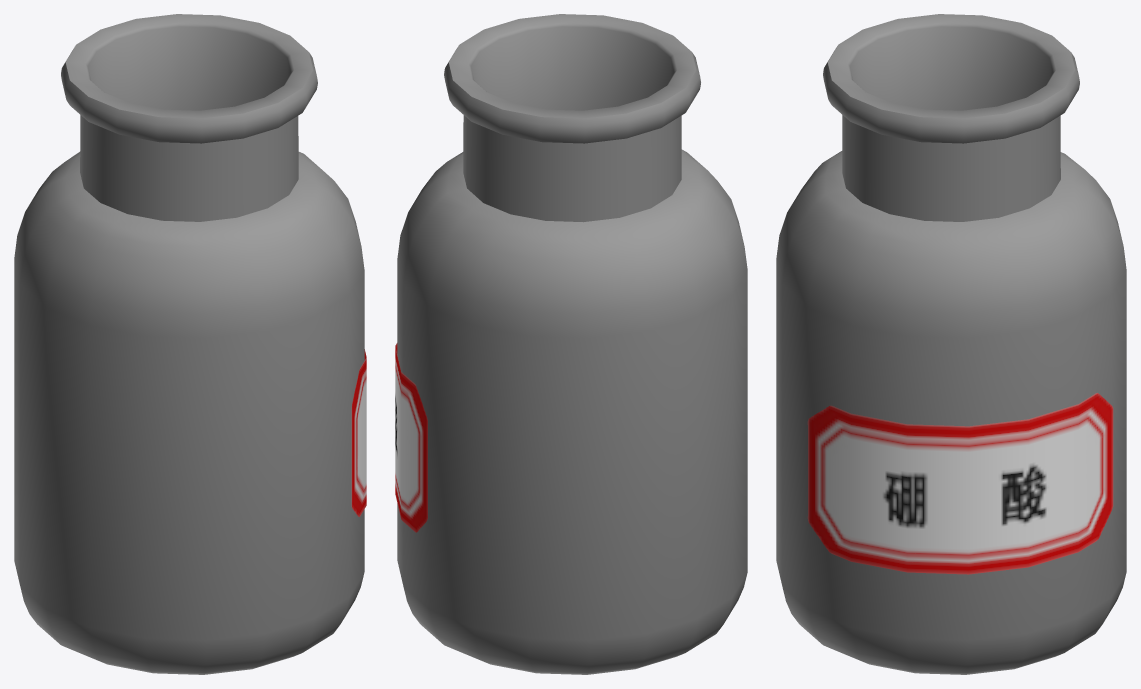
3 views of the same model, side by side, from view 1: azimuth 30°, elevation 25°; view 2: azimuth 150°, elevation 25°; view 3: azimuth 270°, elevation 25° (orthographic).
Parts seen in each view (by area): view 1: SM_硼酸; view 2: SM_硼酸; view 3: SM_硼酸.
Part boxes in pixels (x1,y1,x2,y2): SM_硼酸: (14,14,366,674); SM_硼酸: (395,14,747,674); SM_硼酸: (776,14,1126,674).
Size of the model in its own units: 0.0459 by 0.0789 by 0.0457.
